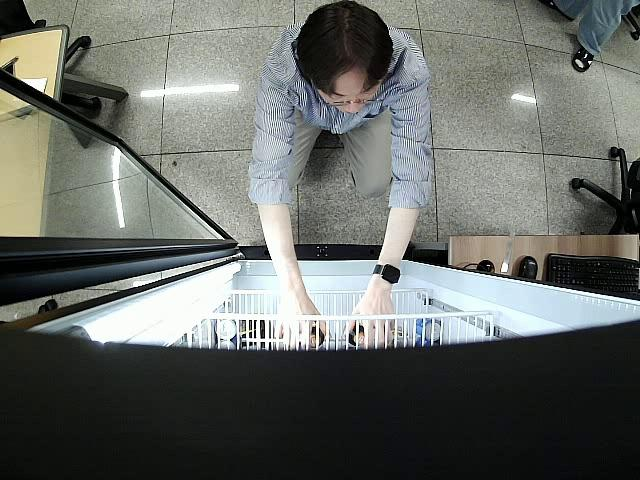00_hand: (274, 297, 326, 350), (345, 294, 396, 348)
17_vita500: (348, 324, 366, 346), (310, 325, 324, 348)
